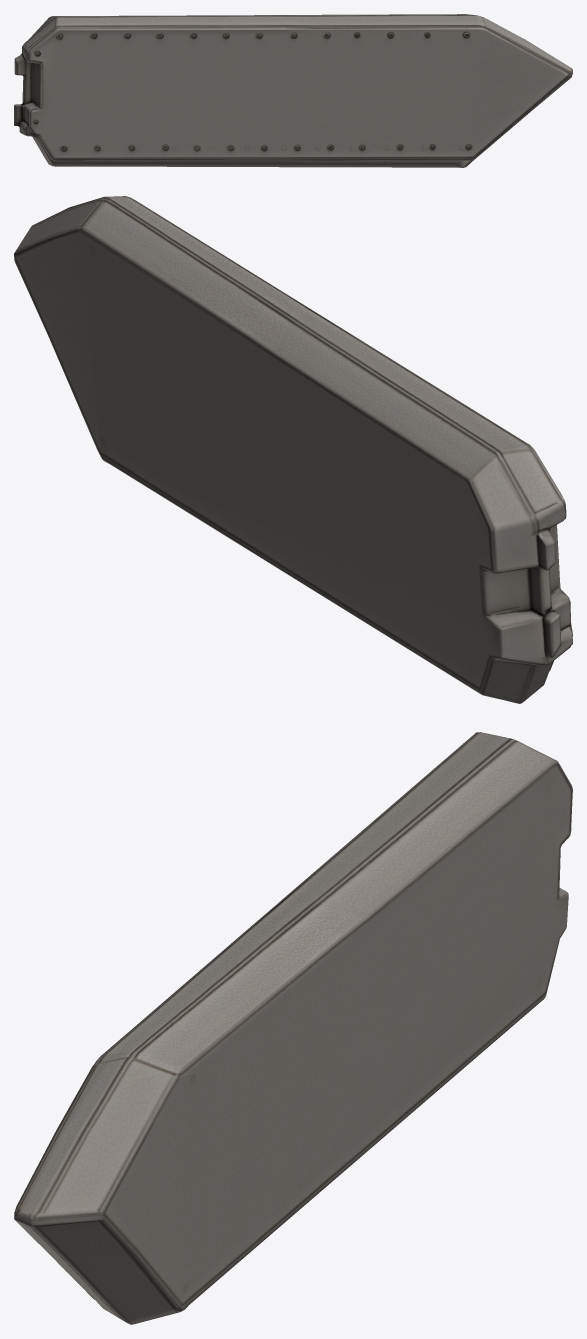
The model's file is metal+riveted+shield+3d+model.fbx.
The picture shows the model from 3 angles, top to bottom: view 1: azimuth 30°, elevation 25°; view 2: azimuth 150°, elevation 25°; view 3: azimuth 270°, elevation 25°; orthographic projection. The views are drawn at different scales.
Visible parts, largest first — view 1: tripo_445cf3f2_098c_4b3b_a578_2dd2fc1c63d5; view 2: tripo_445cf3f2_098c_4b3b_a578_2dd2fc1c63d5; view 3: tripo_445cf3f2_098c_4b3b_a578_2dd2fc1c63d5.
Boxes of the visible parts, x1,y1,x2,y2 form: tripo_445cf3f2_098c_4b3b_a578_2dd2fc1c63d5: (14, 14, 572, 167); tripo_445cf3f2_098c_4b3b_a578_2dd2fc1c63d5: (14, 196, 572, 703); tripo_445cf3f2_098c_4b3b_a578_2dd2fc1c63d5: (14, 732, 572, 1324).
Size of the model in its own units: 0.9995 by 0.3403 by 0.5815.
Materials: 1 (1 with a texture image).
